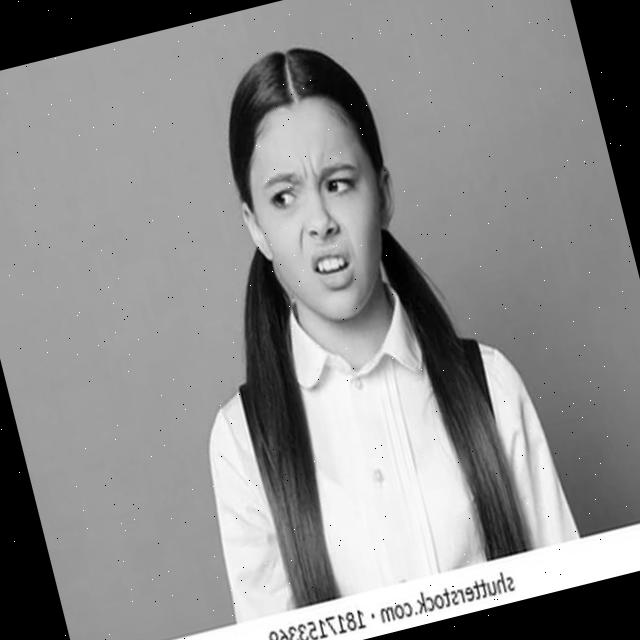Disgust: (230, 88, 408, 334)
